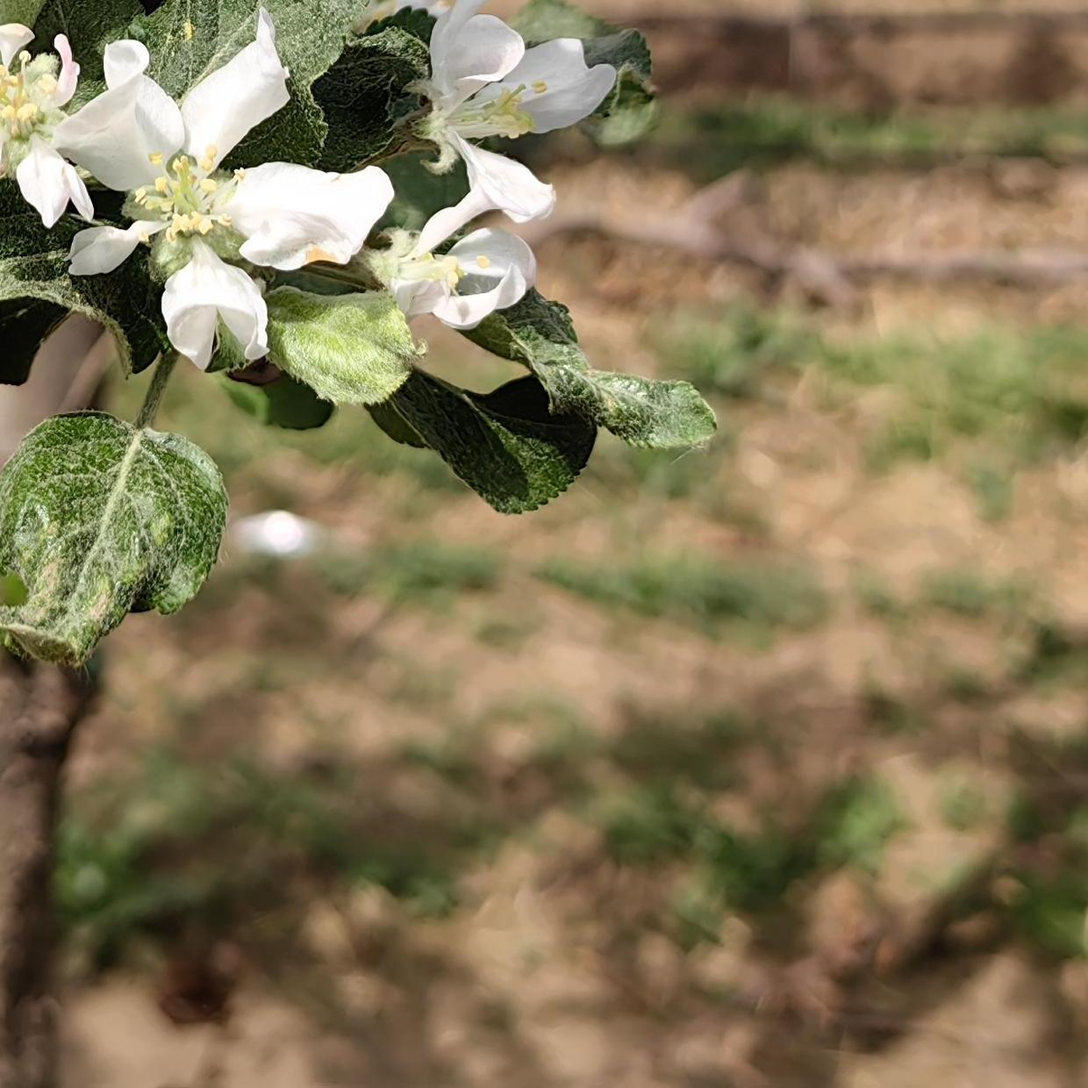apple_flower: (0, 11, 394, 369), (383, 0, 619, 331)
